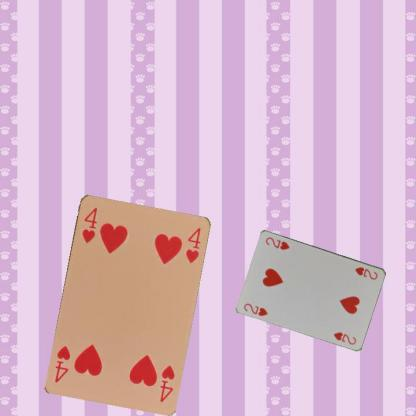2h: (242, 300, 269, 318), (352, 264, 379, 281)
4h: (79, 204, 98, 245), (157, 362, 176, 403)
